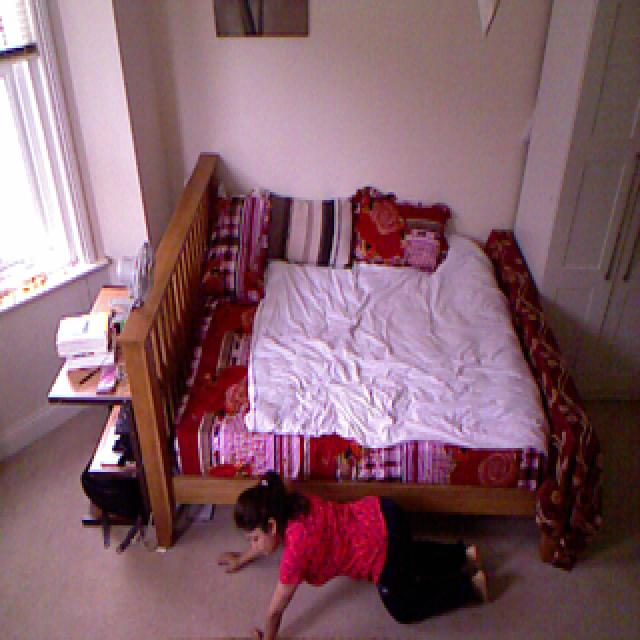crawling: (205, 471, 494, 640)
